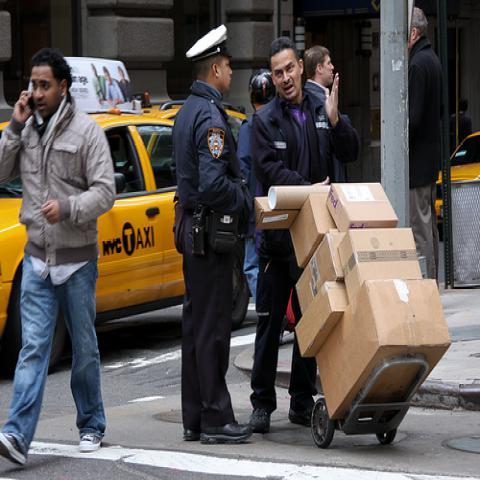car: (0, 113, 253, 375), (436, 130, 479, 244), (112, 93, 251, 126)
